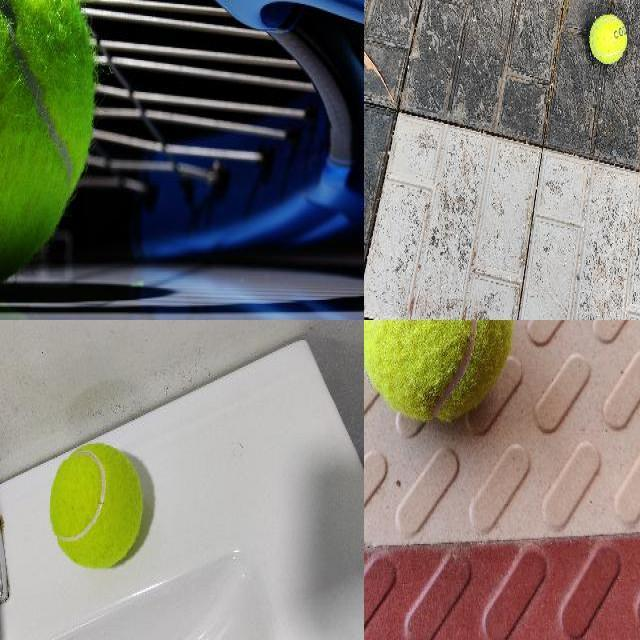tennis-ball: (0, 0, 96, 288), (364, 320, 514, 422), (49, 442, 144, 570), (589, 13, 628, 63)
